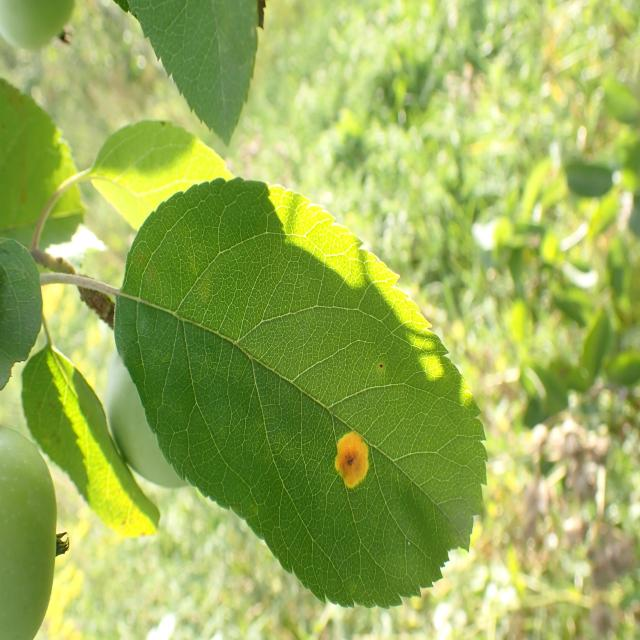Rust: (330, 428, 374, 502)
